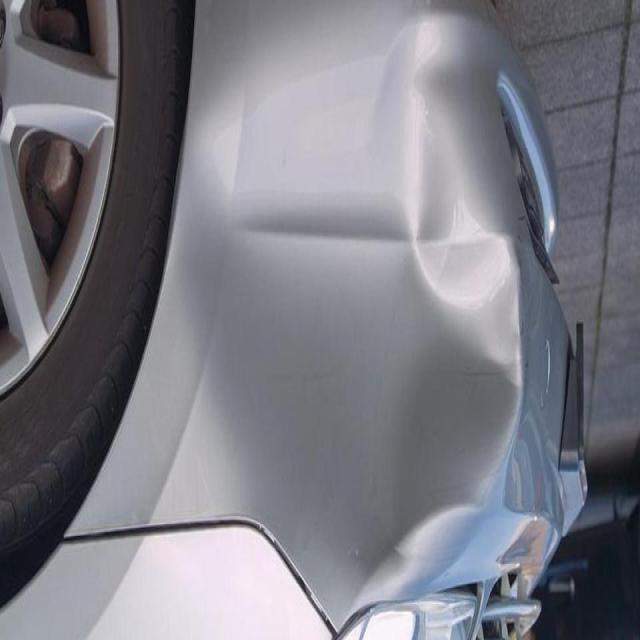dent: (316, 77, 535, 582)
